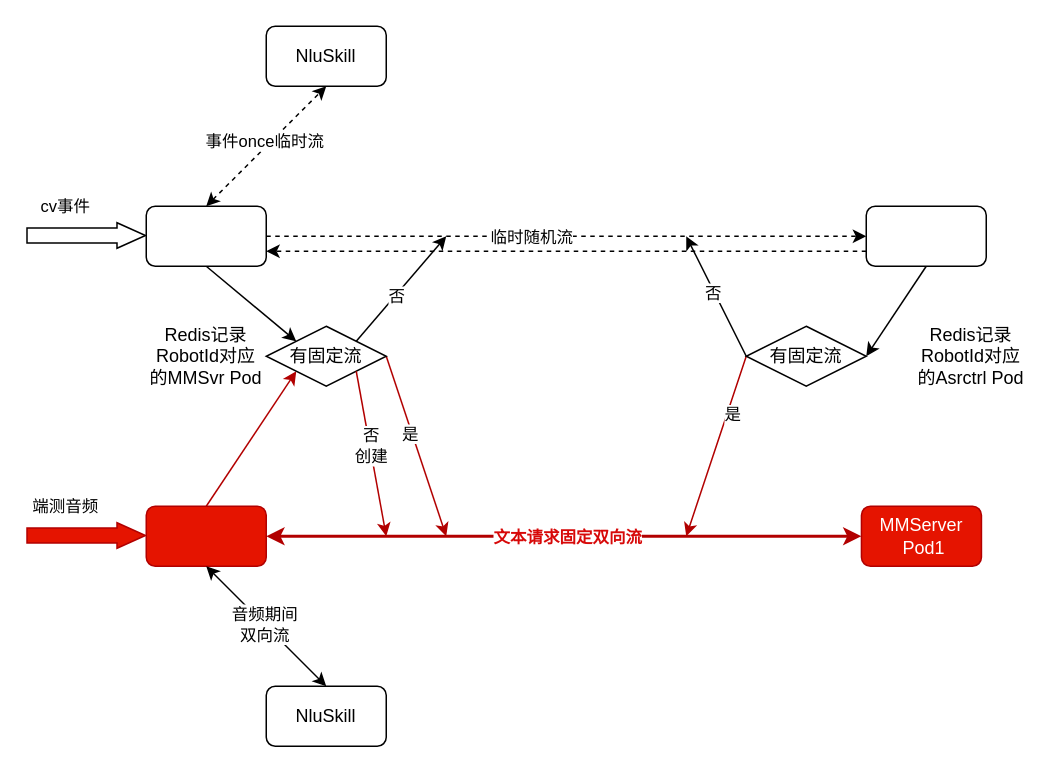
The diagram is 1056 pixels wide and 773 high, and some of its shapes have lost their labels. Here are the shapes that lost their labels. From the top down, the box of each, then its label:
(145, 205, 266, 266): AsrCtrl Pod2
(865, 205, 986, 266): MMServer Pod2
(145, 505, 266, 566): AsrCtrl Pod1
